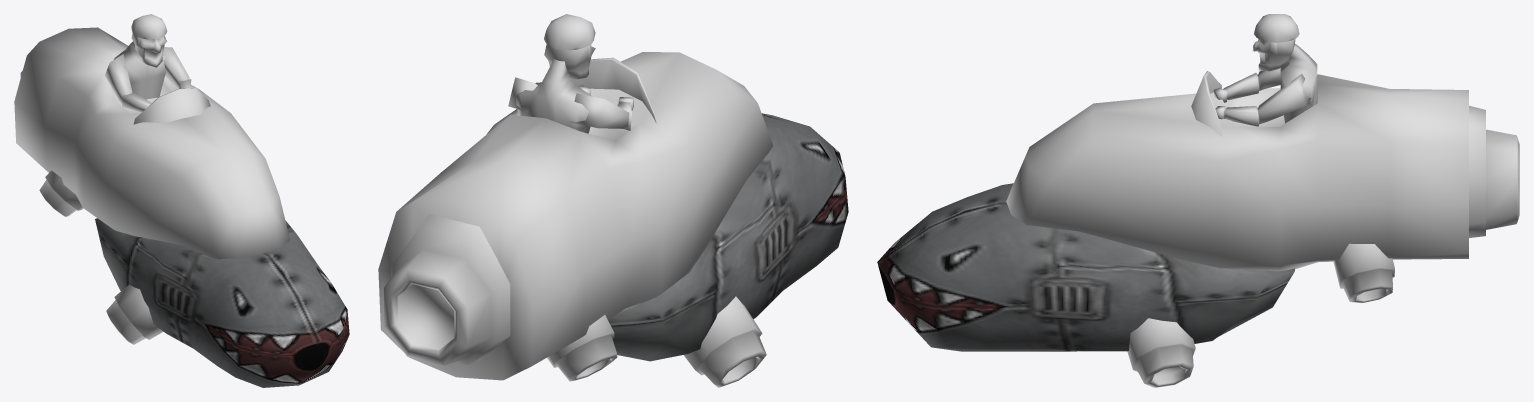
Rendered from BoatDriver.fbx.
The picture shows the model from 3 angles, left to right: view 1: azimuth 30°, elevation 25°; view 2: azimuth 150°, elevation 25°; view 3: azimuth 270°, elevation 25°; orthographic projection. The views are drawn at different scales.
Visible parts, largest first — view 1: BoatTop, BoatBot, JetUpLower, Glass, Torso, Hand Right, JetUpHigher, Head, Hand Right.001, Plane; view 2: BoatTop, BoatBot, JetForward, JetUpLower, Torso, JetUpHigher, Glass, Hand Right, Plane, Head, Hand Right.001; view 3: BoatTop, BoatBot, JetForward, JetUpLower, JetUpHigher, Hand Right.001, Torso, Hand Right, Glass, Plane, Head.
Boxes of the visible parts, box(x1,y1,x2,y2) form: BoatTop: box(14, 27, 289, 259); BoatBot: box(95, 218, 349, 387); JetUpLower: box(106, 284, 163, 344); Glass: box(133, 88, 210, 124); Torso: box(114, 41, 165, 99); Hand Right: box(105, 54, 151, 112); JetUpHigher: box(39, 170, 83, 216); Head: box(131, 33, 167, 67); Hand Right.001: box(162, 47, 191, 88); Plane: box(131, 14, 167, 39); BoatTop: box(378, 52, 773, 380); BoatBot: box(608, 113, 848, 361); JetForward: box(384, 214, 510, 365); JetUpLower: box(683, 296, 766, 387); Torso: box(515, 59, 592, 133); JetUpHigher: box(547, 315, 617, 381); Glass: box(569, 57, 657, 123); Hand Right: box(569, 93, 633, 130); Plane: box(544, 14, 595, 50); Head: box(544, 44, 595, 79); Hand Right.001: box(508, 77, 591, 111); BoatTop: box(1006, 74, 1468, 271); BoatBot: box(877, 183, 1294, 351); JetForward: box(1469, 105, 1519, 237); JetUpLower: box(1127, 318, 1195, 387); JetUpHigher: box(1333, 243, 1394, 303); Hand Right.001: box(1215, 74, 1310, 126); Torso: box(1280, 44, 1317, 123); Hand Right: box(1213, 68, 1280, 102); Glass: box(1191, 71, 1221, 136); Plane: box(1254, 14, 1299, 42); Head: box(1252, 38, 1295, 71).
Bounding box in the file's own units: 2.71 × 3.98 × 7.02.
